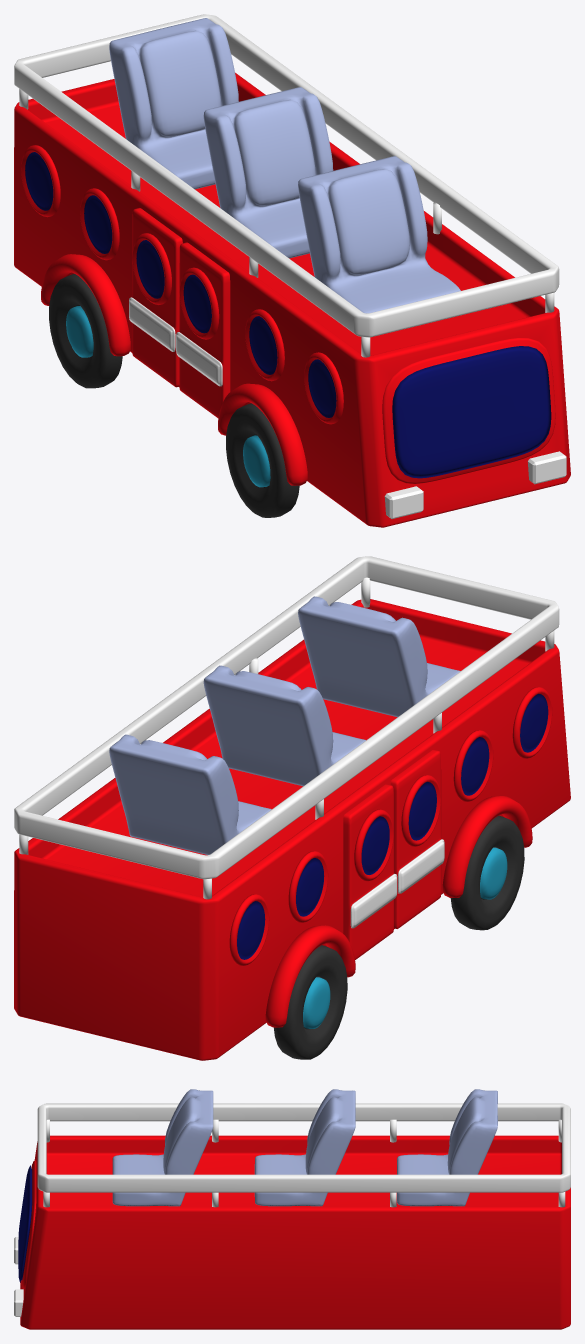
The model's file is Bus.fbx.
3 views of the same model, one above another, from view 1: azimuth 30°, elevation 25°; view 2: azimuth 150°, elevation 25°; view 3: azimuth 270°, elevation 25° (orthographic). The views are drawn at different scales.
Visible parts, largest first — view 1: Bus, FrontSeat, BackSeat, MiddleSeat, RightDoor, LeftDoor, Lights; view 2: Bus, BackSeat, MiddleSeat, FrontSeat, LeftDoor, RightDoor; view 3: Bus, FrontSeat, MiddleSeat, BackSeat, Lights.
Part boxes in pixels (x1,y1,x2,y2): Bus: (14, 14, 570, 527); FrontSeat: (298, 156, 460, 313); BackSeat: (109, 18, 238, 189); MiddleSeat: (203, 87, 333, 258); RightDoor: (176, 242, 230, 417); LeftDoor: (129, 208, 182, 387); Lights: (384, 451, 566, 518); Bus: (14, 556, 570, 1060); BackSeat: (109, 734, 271, 854); MiddleSeat: (203, 665, 365, 786); FrontSeat: (298, 596, 460, 717); LeftDoor: (343, 784, 397, 959); RightDoor: (390, 749, 444, 928); Bus: (18, 1103, 570, 1329); FrontSeat: (112, 1089, 213, 1206); MiddleSeat: (254, 1089, 355, 1206); BackSeat: (397, 1089, 497, 1206); Lights: (14, 1237, 23, 1316).
Bounding box in the file's own units: 110 × 141 × 313.
